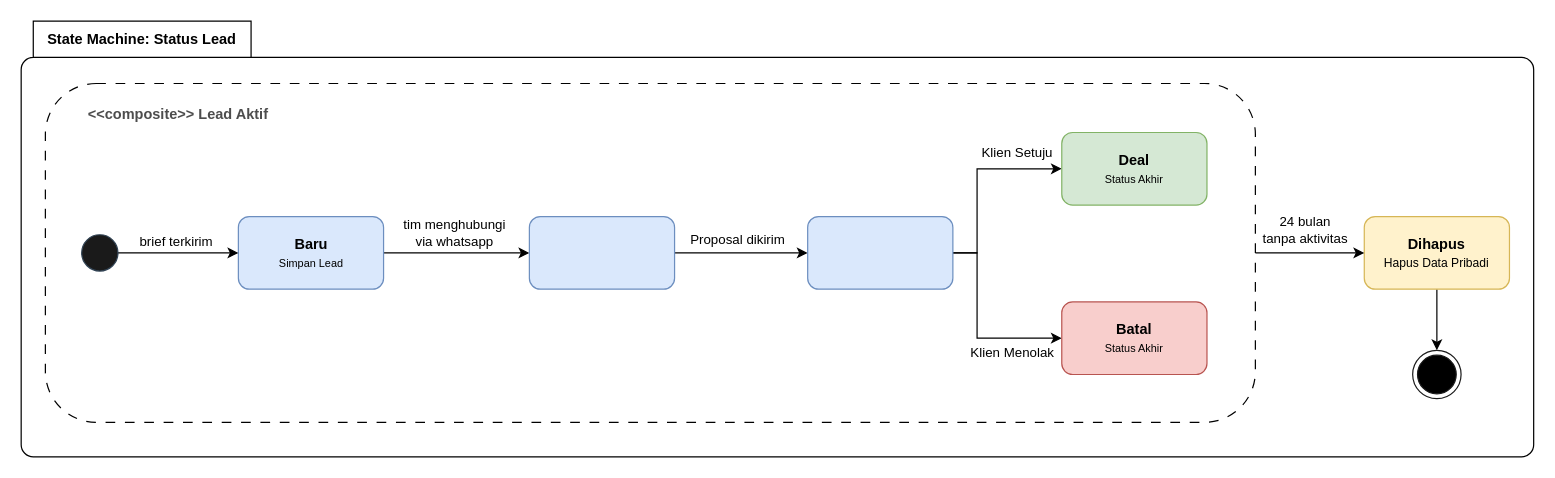
The diagram is 1555 pixels wide and 478 high, and some of its shapes have lost their labels. Each missing label, with the centre of its shape:
"Dihubungi via WhatsApp" belongs at (x=601, y=252).
"Proposal dikirim ke klien" belongs at (x=879, y=252).
